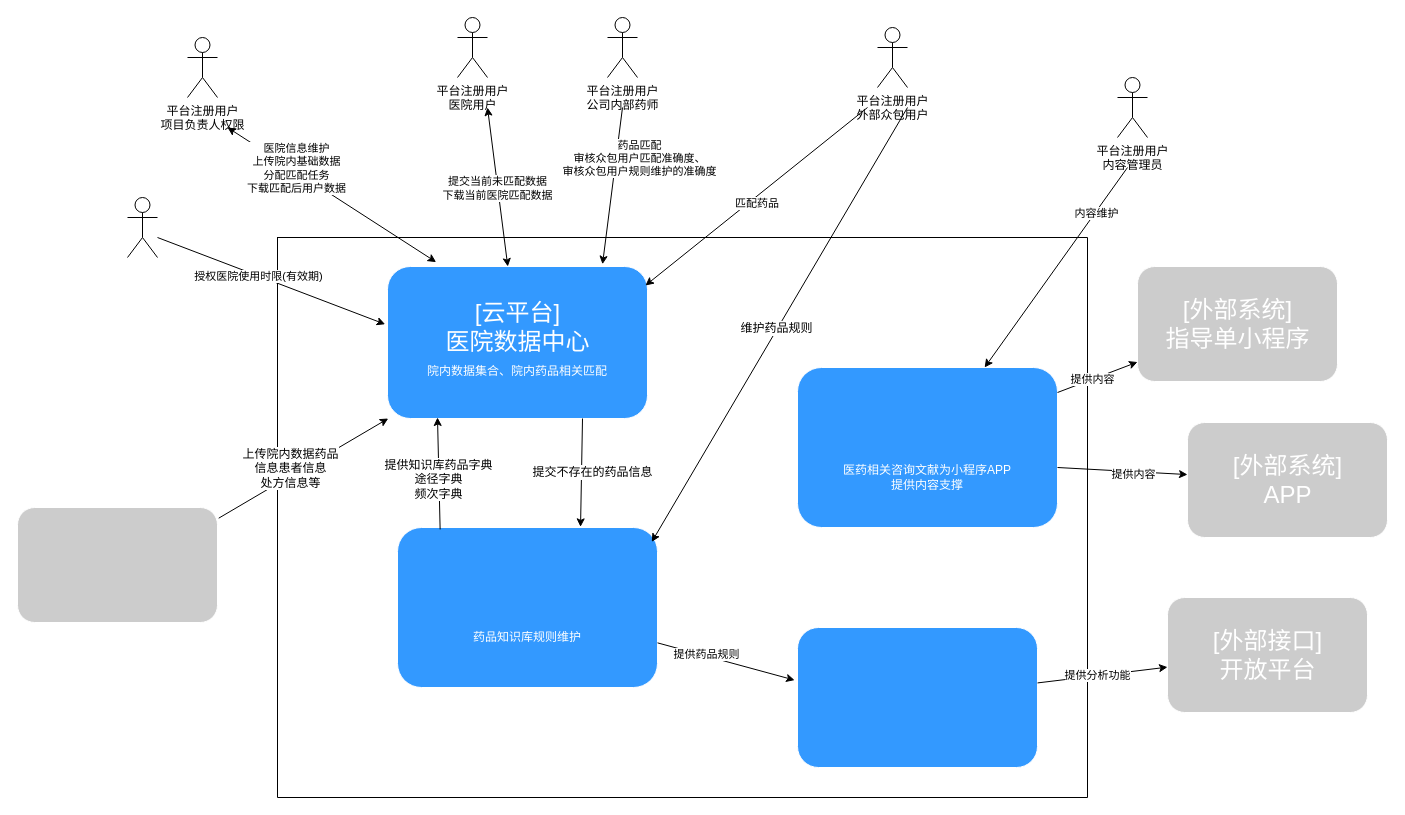
The diagram is 1405 pixels wide and 815 high, and some of its shapes have lost their labels. The shapes that lost their labels are listed below. From the top down, each one's box as (x1, y1, x2, y2) in pixels, then its label:
(126, 196, 158, 258): 平台注册用户 授权管理员
(796, 366, 1058, 528): [云平台] 内容管理服务
(16, 506, 218, 622): [外部系统] 院内HIS
(396, 526, 658, 688): [云平台] 知识库维护服务
(796, 626, 1038, 768): [云平台] 知识库分析服务
